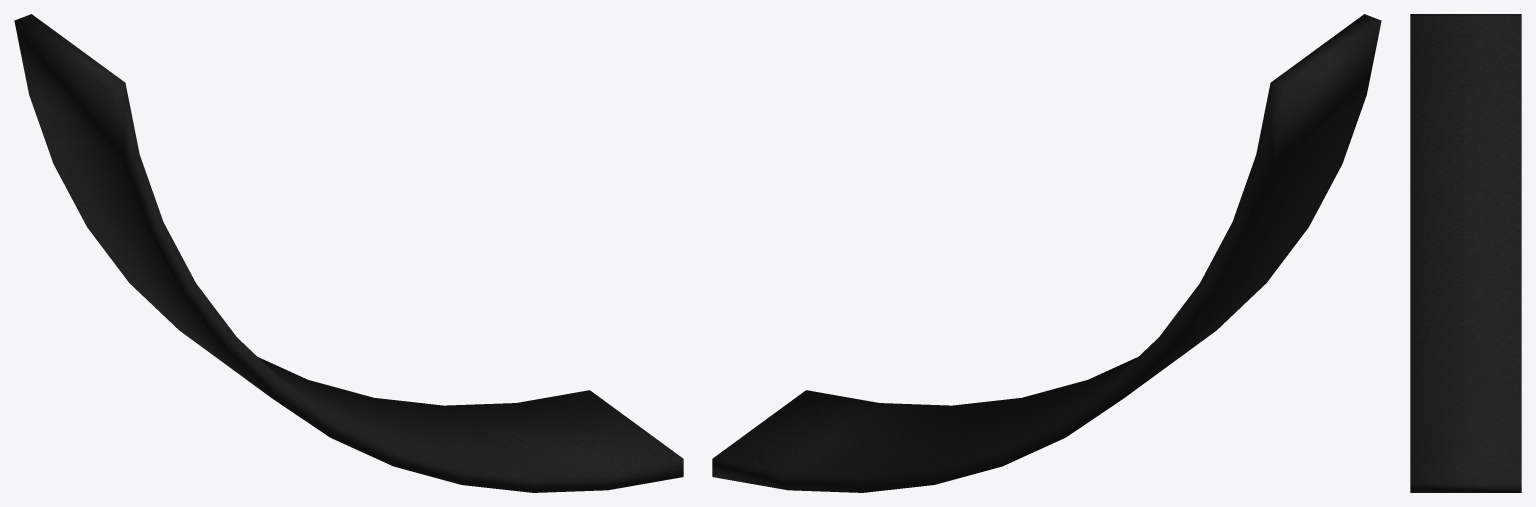
The model's file is rhex_lowerleg.dae.
The picture shows the model from 3 angles, left to right: view 1: azimuth 30°, elevation 25°; view 2: azimuth 150°, elevation 25°; view 3: azimuth 270°, elevation 25°; orthographic projection. The views are drawn at different scales.
Parts seen in each view (by area): view 1: RHexLegLower; view 2: RHexLegLower; view 3: RHexLegLower.
Boxes of the visible parts, <box> form: RHexLegLower: <box>14,14,683,492</box>; RHexLegLower: <box>712,14,1381,492</box>; RHexLegLower: <box>1410,14,1521,492</box>.
Size of the model in its own units: 0.0991 by 0.028 by 0.0873.
1 material, 1 textured.
